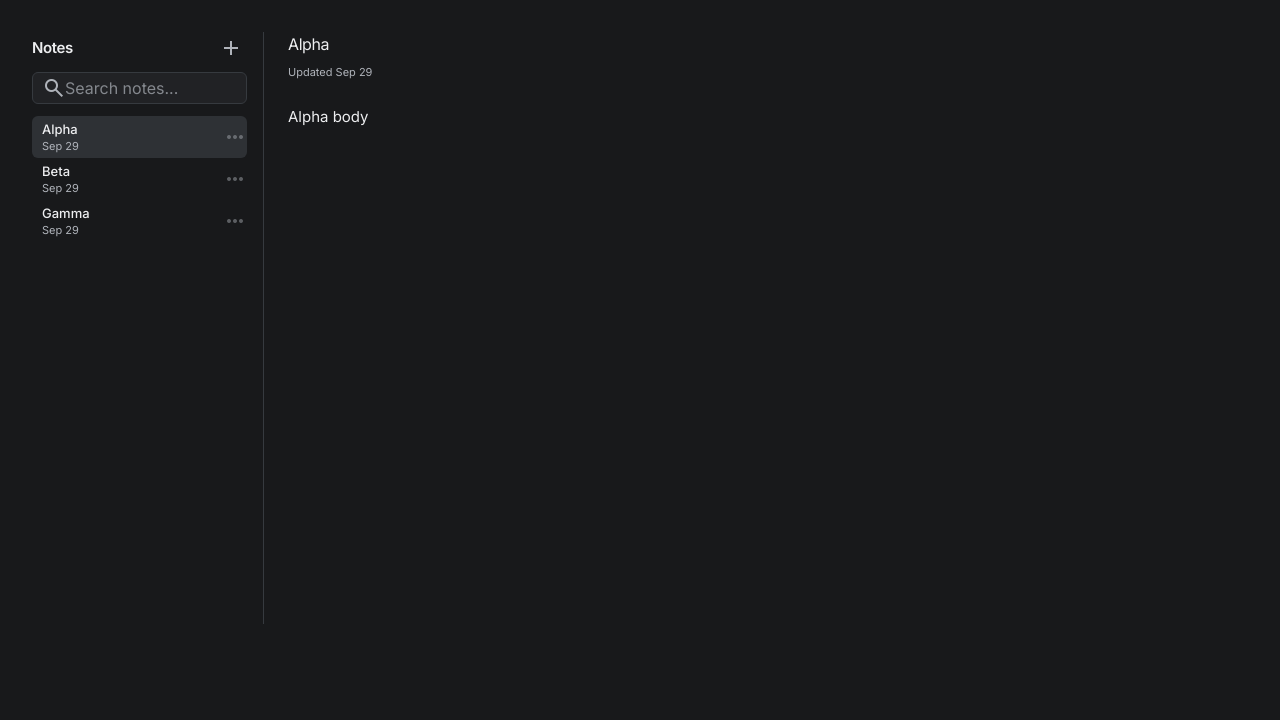
Test: title editing › edits the selected note title directly (no modal, no separate edit mode)
Replace the text in the field named "Note title" with "Alpha, revised" at (668, 44), box [288,32,1048,56]
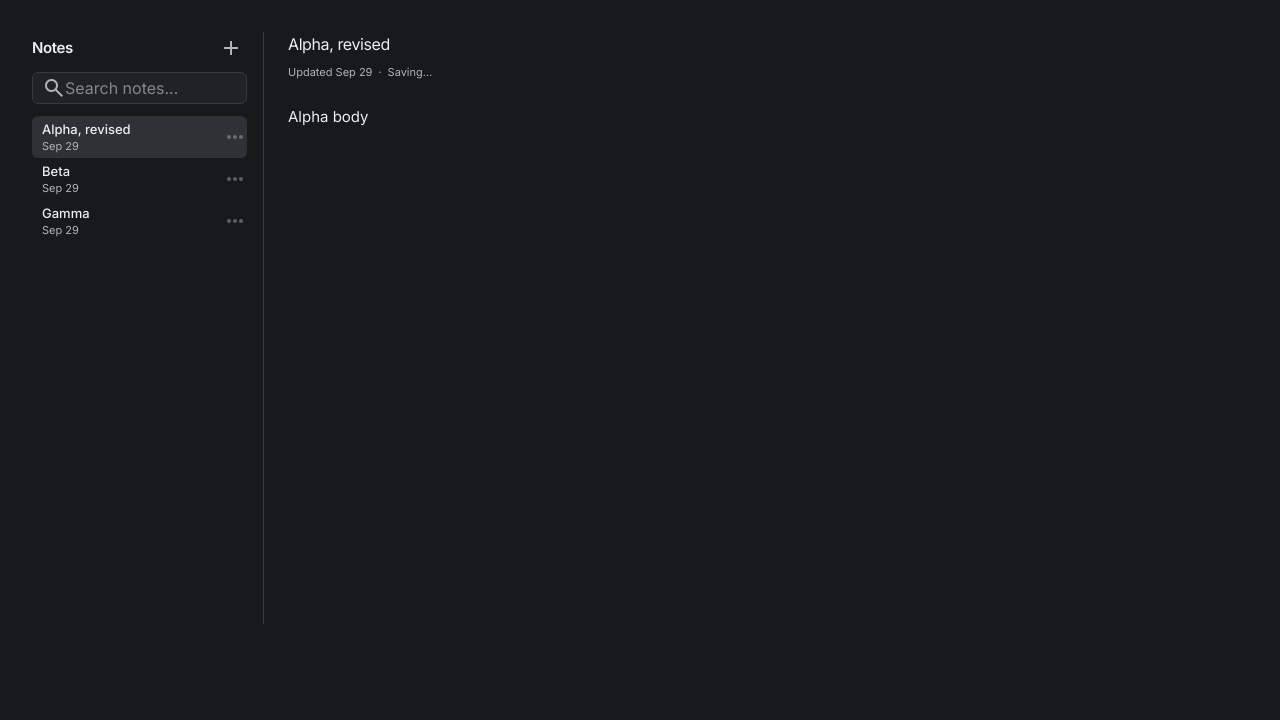
Now the text with class "truncate" reads "Alpha, revised", box [42,121,131,137]
